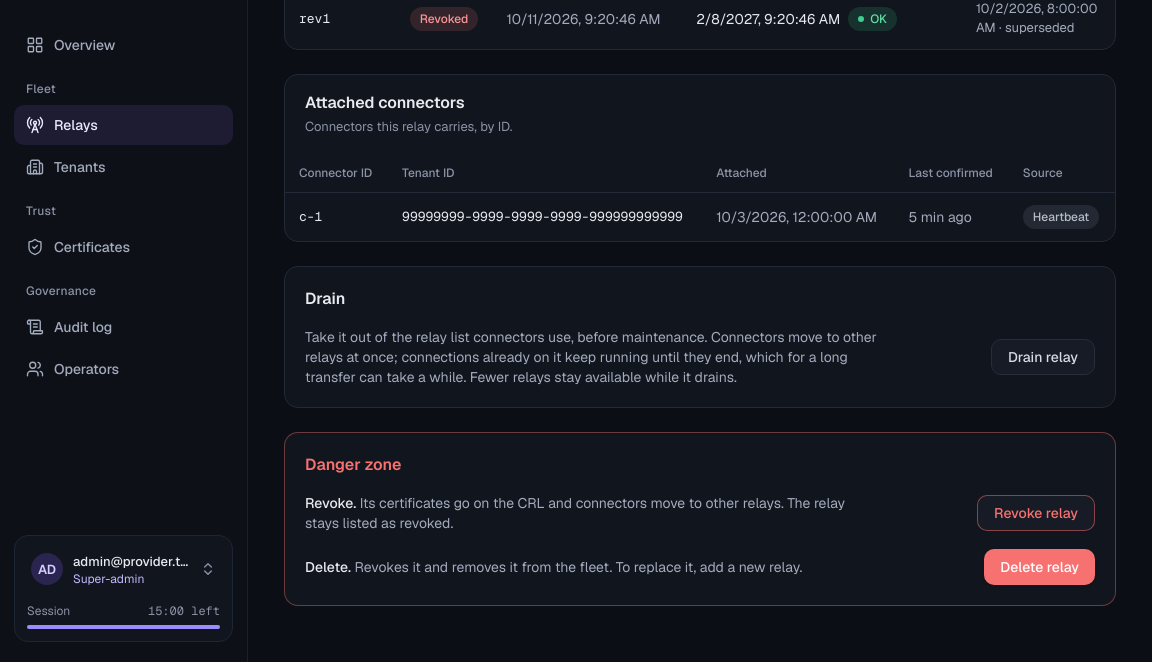
Scenario: Relay detail: revoke and delete requests › revoke: one POST to /revoke with the reason and name in the body, then a refresh shows it revoked
(page scrolled)
Step 1. Click the button "Revoke relay" → click(1036, 513), box [977, 495, 1095, 531]
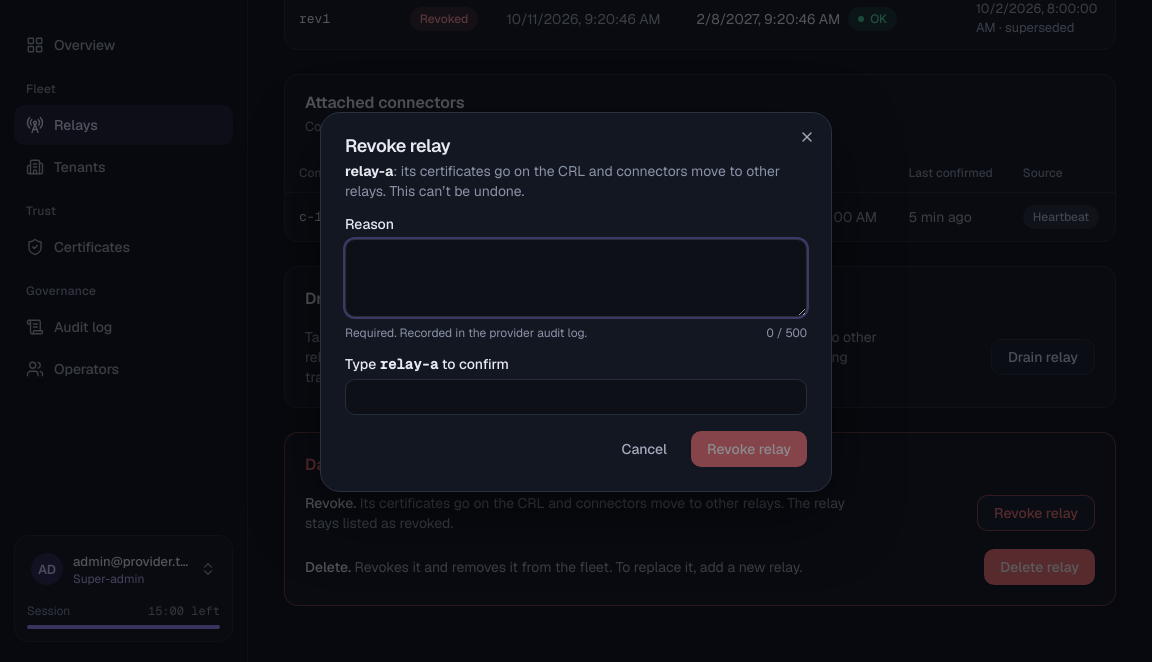
Step 2. Type "host compromised" into the text box labelled "Reason" → (576, 278), box [345, 239, 807, 317]
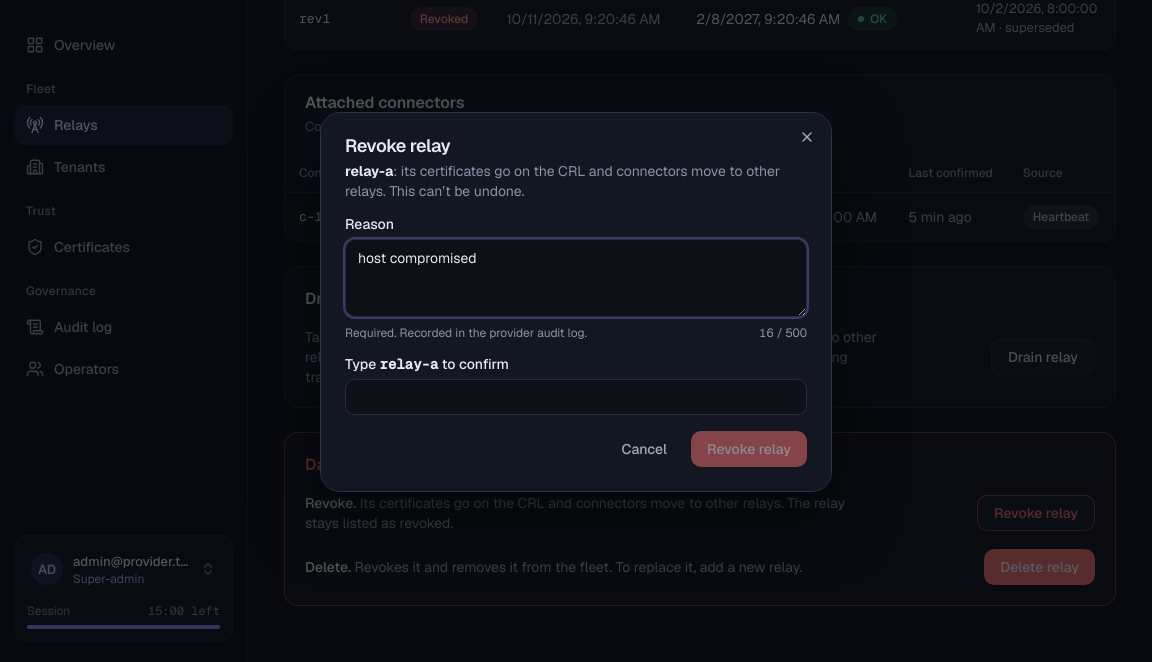
Step 3. Type "relay-a" into the field labelled "Type relay-a to confirm" → (576, 397), box [345, 379, 807, 415]
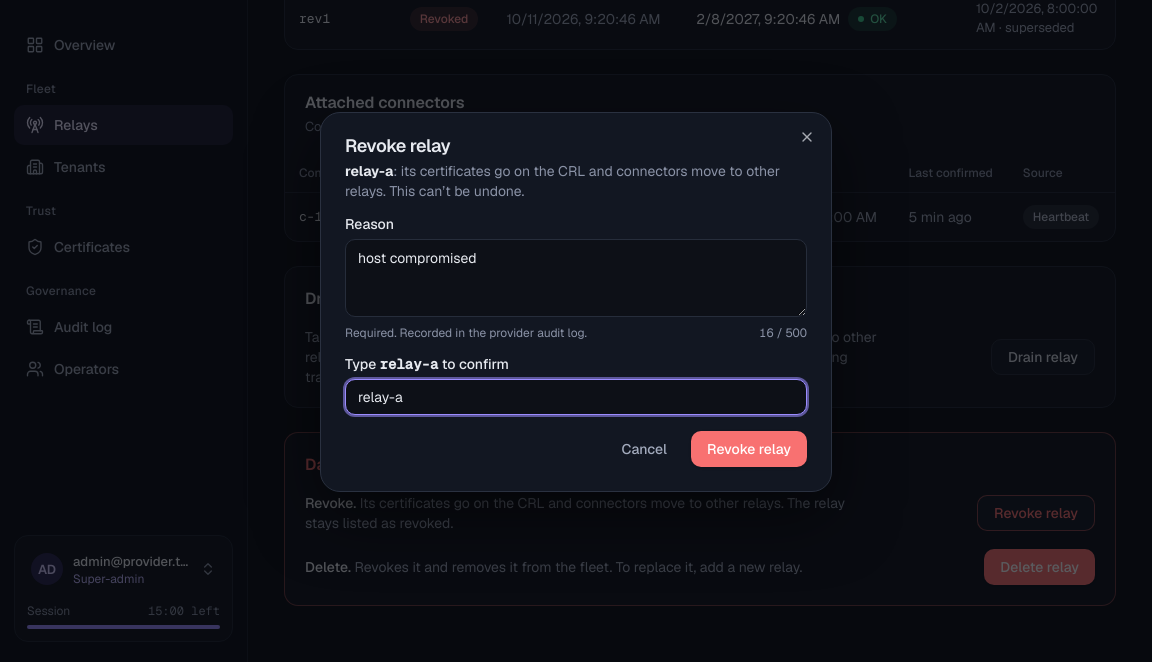
Step 4. Click the button "Revoke relay" → click(749, 449), box [691, 431, 807, 467]
(page scrolled)
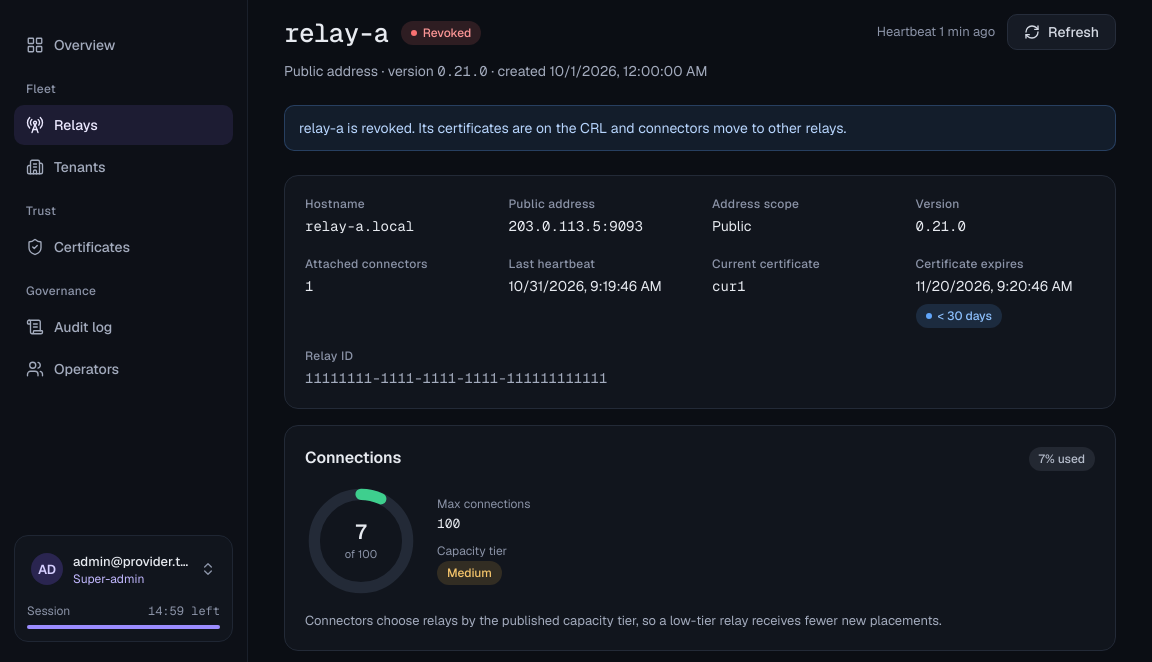
Expected: the text "relay-a is revoked" is shown, [299, 118, 846, 136]
Expected: the dialog is gone
